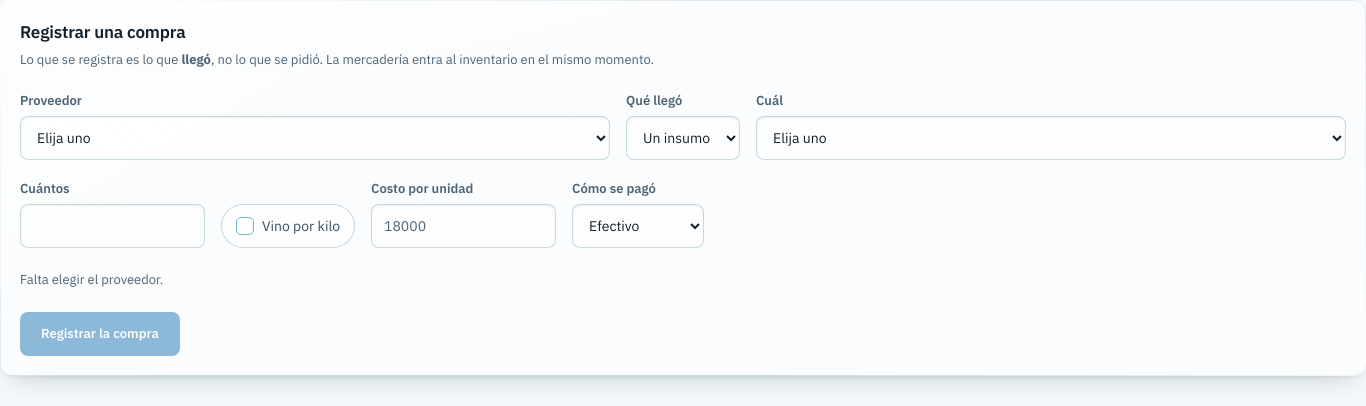
Test: RegistrarCompra — una línea compra una sola cosa › comprando botellones no pregunta cuál insumo
Select "Botellones" in the dropdown labelled "Qué llegó" at (683, 138), box [626,116,740,160]
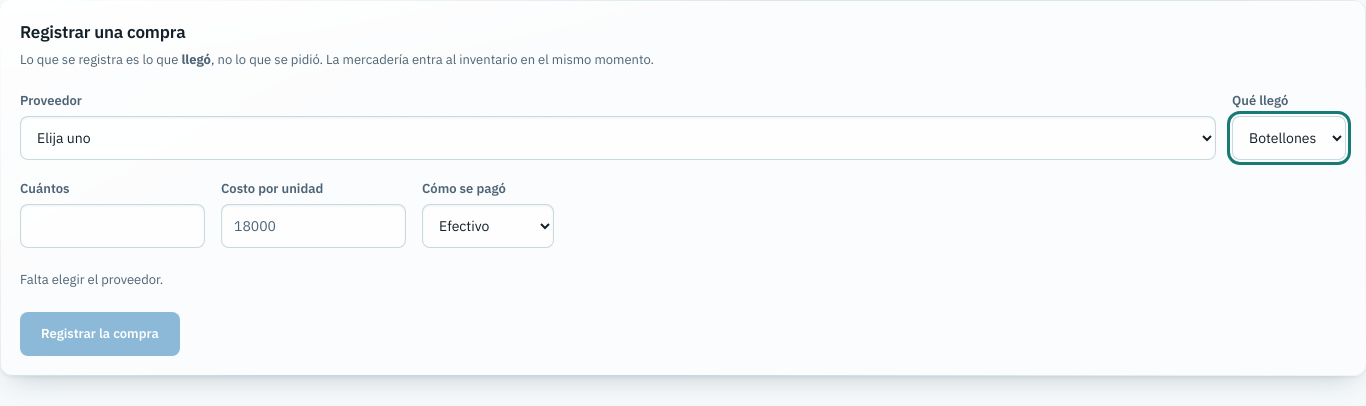
Check: the text "Cuál" is gone
